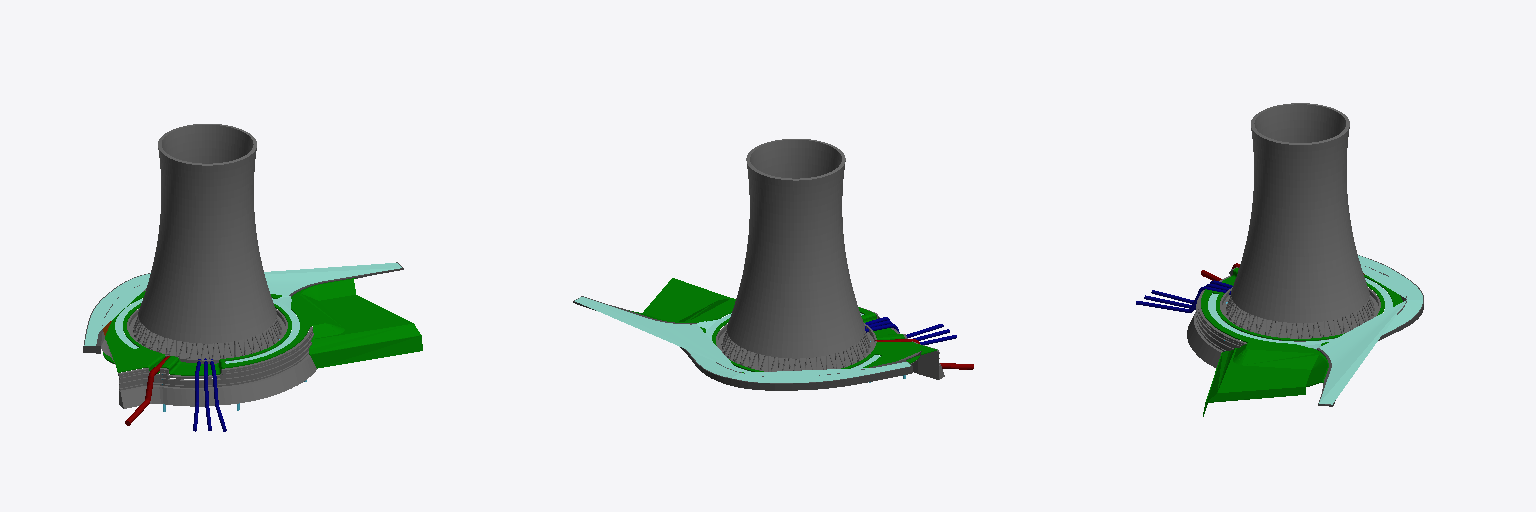
The model's file is towter01.obj.
3 renders of one model, left to right at view 1: azimuth 30°, elevation 25°; view 2: azimuth 150°, elevation 25°; view 3: azimuth 270°, elevation 25°, orthographic.
Parts seen in each view (by area): view 1: Cylinder462, Box003, ??005, ???005, Cylinder023, ???004, ?005, Line021; view 2: Cylinder462, ??005, Box003, Line021, Cylinder023; view 3: Cylinder462, Box003, ??005, Cylinder023, ???005, ?005.
Boxes of the visible parts, x1,y1,x2,y2 form: Cylinder462: [138, 124, 276, 343]; Box003: [103, 278, 422, 375]; ??005: [84, 263, 401, 345]; ???005: [119, 354, 316, 408]; Cylinder023: [127, 308, 287, 363]; ???004: [119, 331, 312, 390]; ?005: [115, 299, 299, 363]; Line021: [83, 262, 403, 353]; Cylinder462: [727, 139, 864, 358]; ??005: [575, 297, 910, 382]; Box003: [629, 278, 936, 372]; Line021: [573, 296, 912, 390]; Cylinder023: [716, 323, 876, 371]; Cylinder462: [1231, 103, 1369, 322]; Box003: [1201, 268, 1402, 416]; ??005: [1319, 255, 1422, 404]; Cylinder023: [1220, 287, 1380, 341]; ???005: [1187, 298, 1222, 367]; ?005: [1208, 278, 1392, 344].
Bounding box in the file's own units: 7724 × 4982 × 5725.